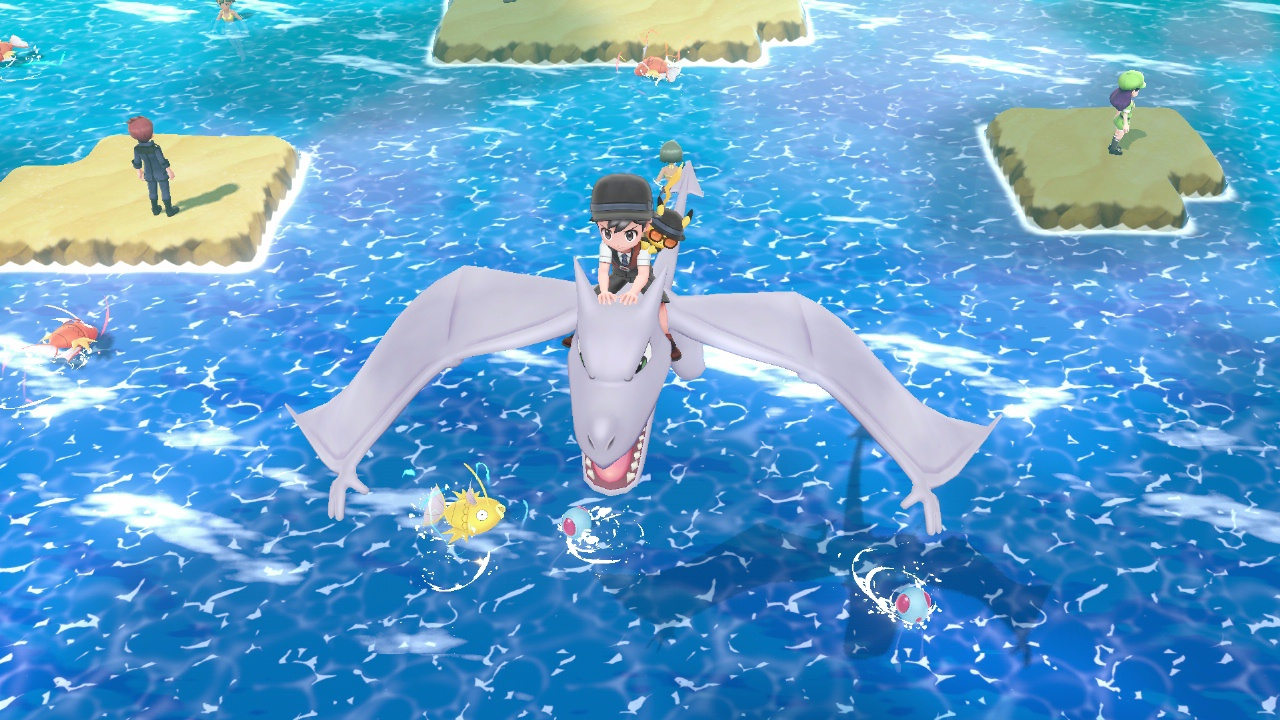Golden: (421, 483, 508, 544)
Red: (45, 315, 97, 362), (637, 56, 681, 83), (1, 33, 33, 67)
